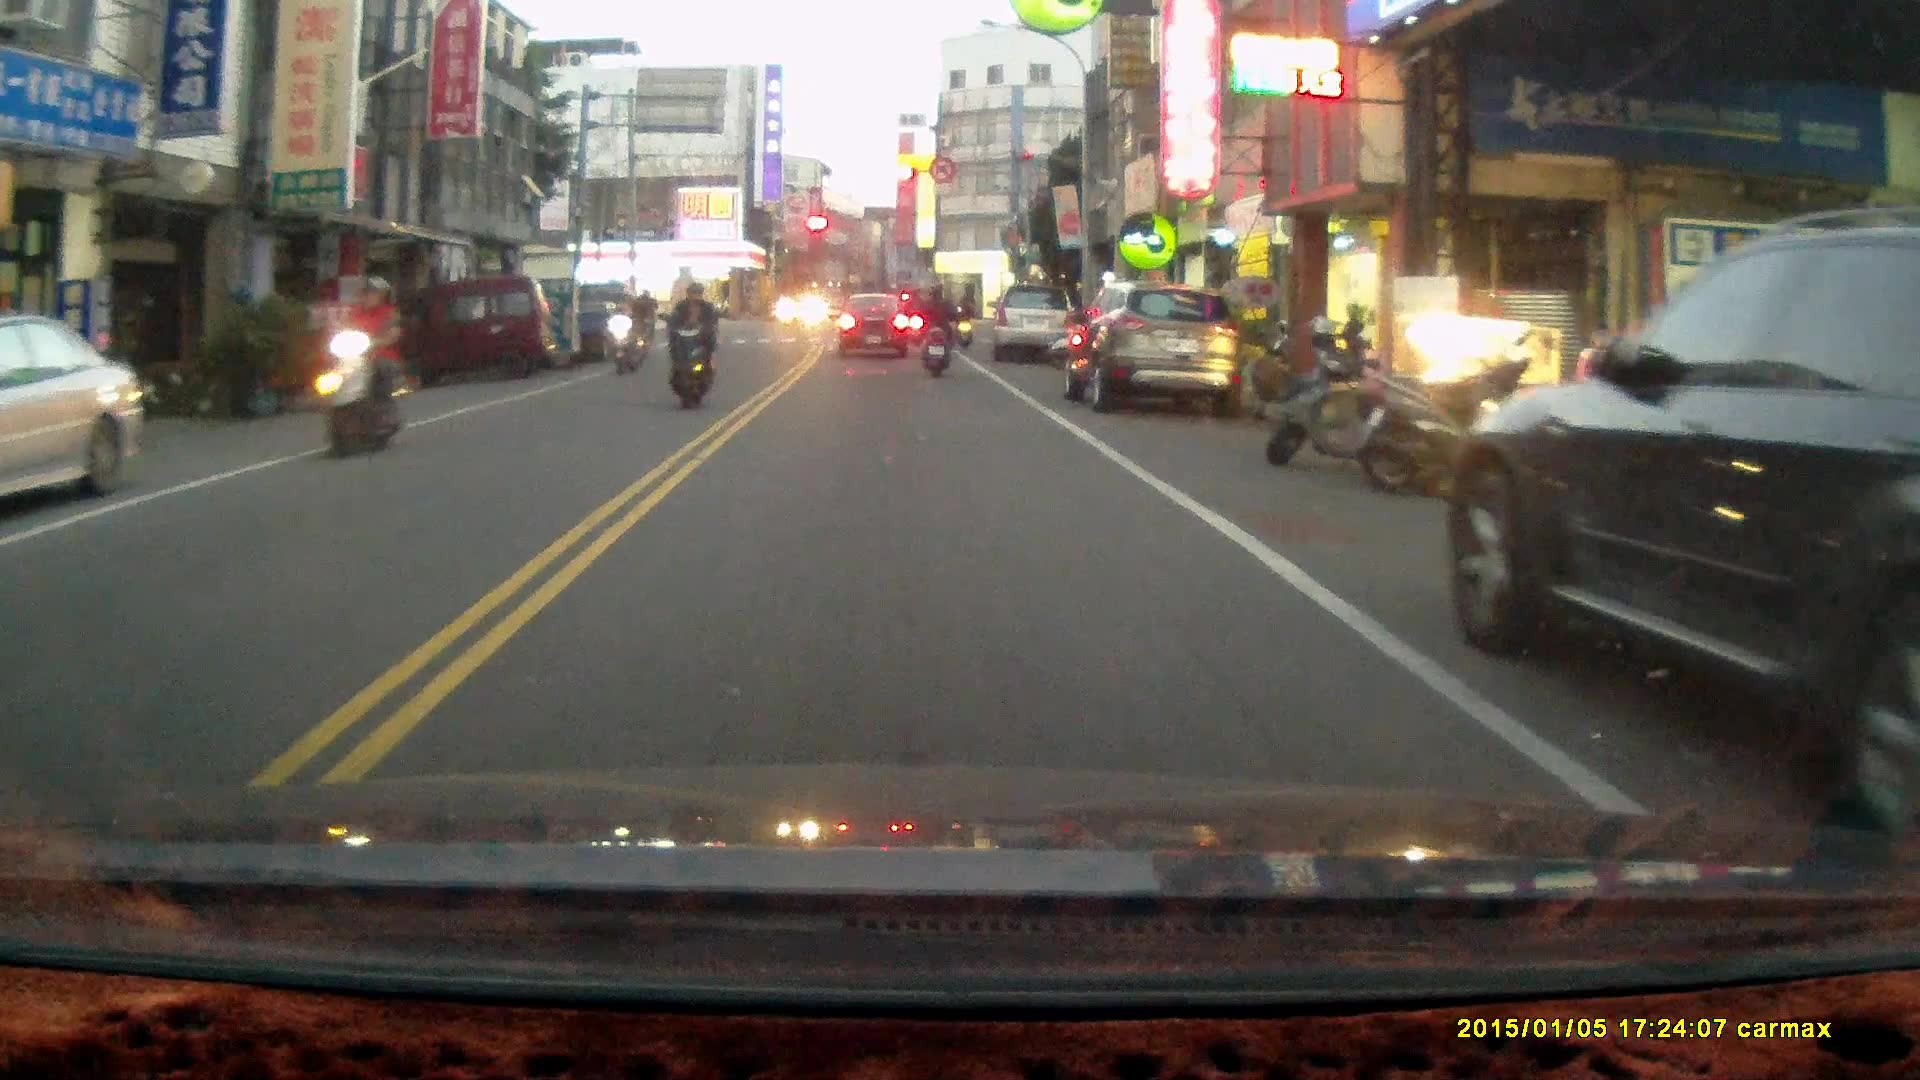rider: (317, 273, 409, 461), (664, 278, 714, 410), (914, 281, 955, 378), (606, 285, 646, 376), (628, 277, 660, 356), (954, 294, 974, 350)
vehicle: (1440, 205, 1920, 804), (1, 315, 141, 520), (1063, 283, 1243, 412), (388, 274, 560, 383), (997, 280, 1077, 361)
